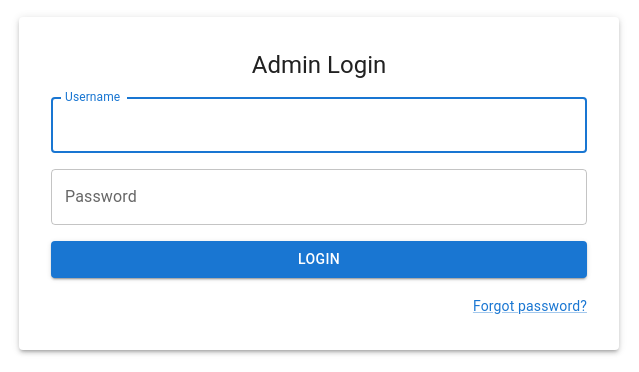
Test: AdminLogin Component › shows loading state during login
# Fill in the form
Type "admin" into the field labelled "Username".
click(319, 125); type("admin")  # box [51,97,587,153]
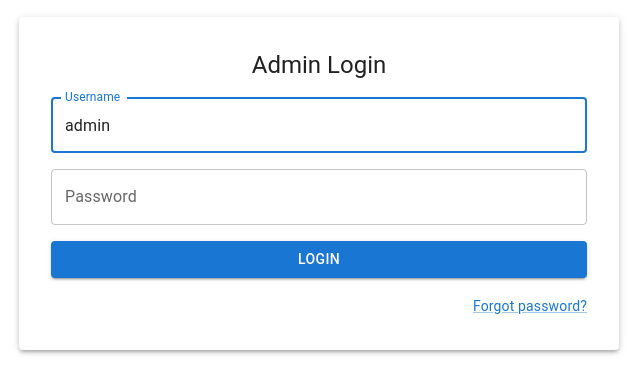
Type "password123" into the password field labelled "Password".
click(319, 197); type("password123")  # box [51,169,587,225]
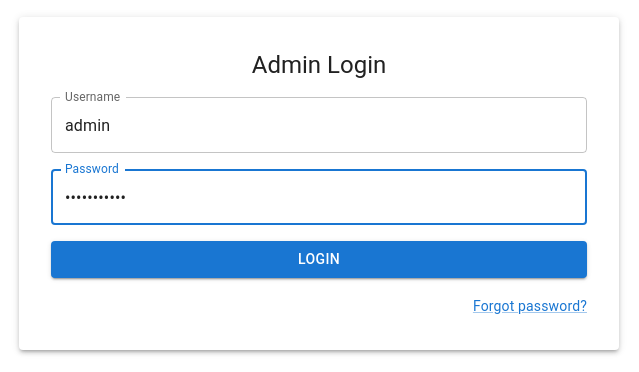
# Submit the form
Click the button "Login".
click(319, 259)  # box [51,241,587,278]
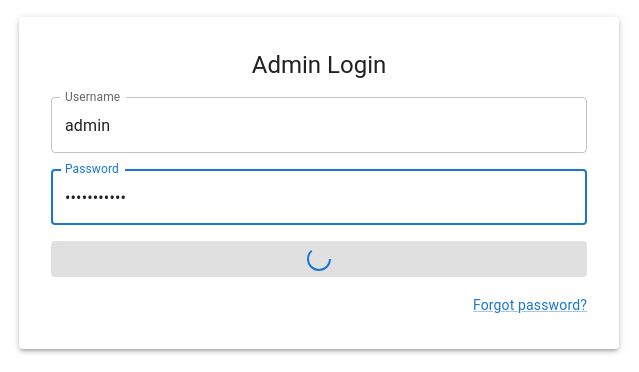
Now the progress indicator is shown, box [307,247,331,271]
